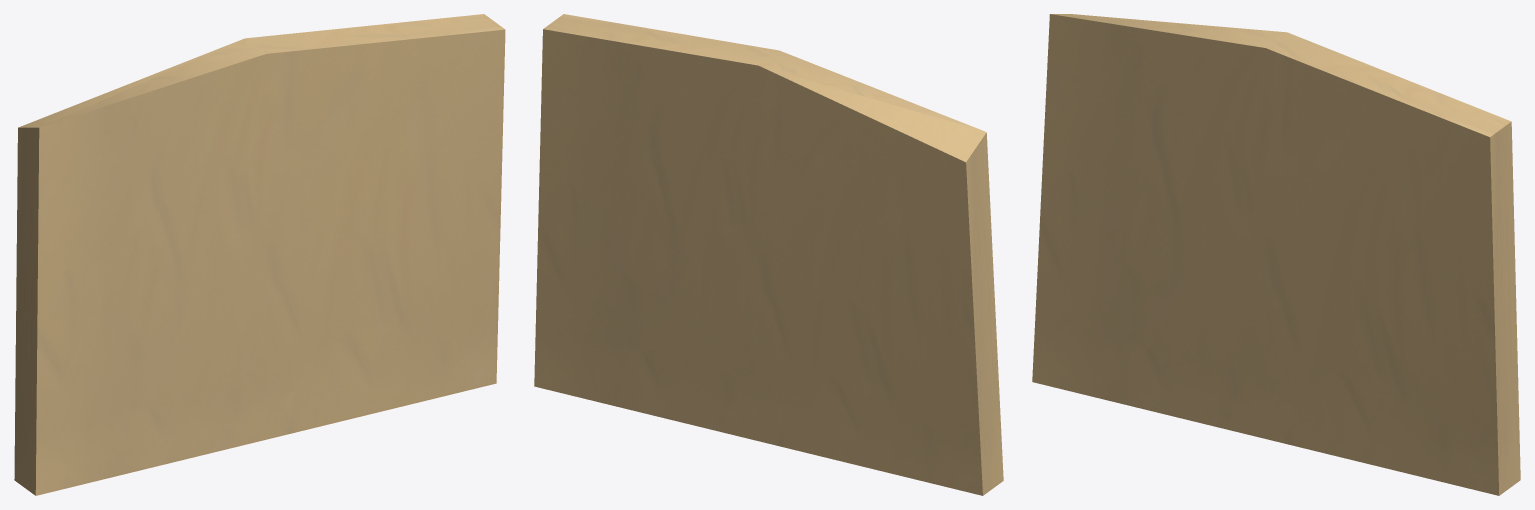
File: WallF.FBX
3 renders of one model, left to right at view 1: azimuth 30°, elevation 25°; view 2: azimuth 150°, elevation 25°; view 3: azimuth 330°, elevation 25°, orthographic. The views are drawn at different scales.
Visible parts, largest first — view 1: WallF; view 2: WallF; view 3: WallF.
Part boxes in pixels (x1,y1,x2,y2): WallF: (14, 14, 505, 495); WallF: (534, 14, 1003, 495); WallF: (1032, 14, 1520, 495).
Bounding box in the file's own units: 25 × 3.49 × 20.
Materials: 1 (1 with a texture image).
